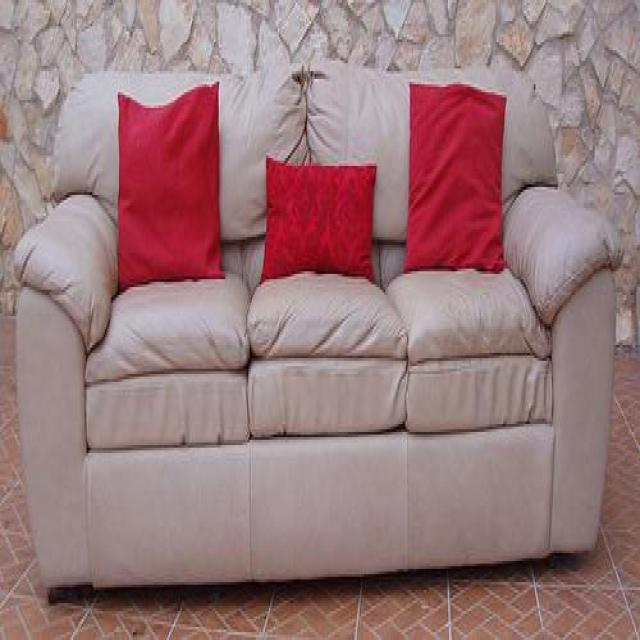sofa: (14, 70, 620, 597)
